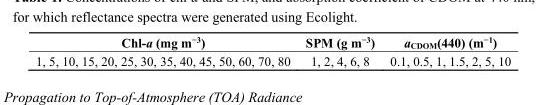table: (35, 34, 510, 67)
table column: (35, 34, 297, 67), (381, 34, 510, 67), (297, 34, 381, 67)
table column header: (35, 34, 510, 51)
table row: (35, 34, 510, 51), (35, 51, 510, 67)
